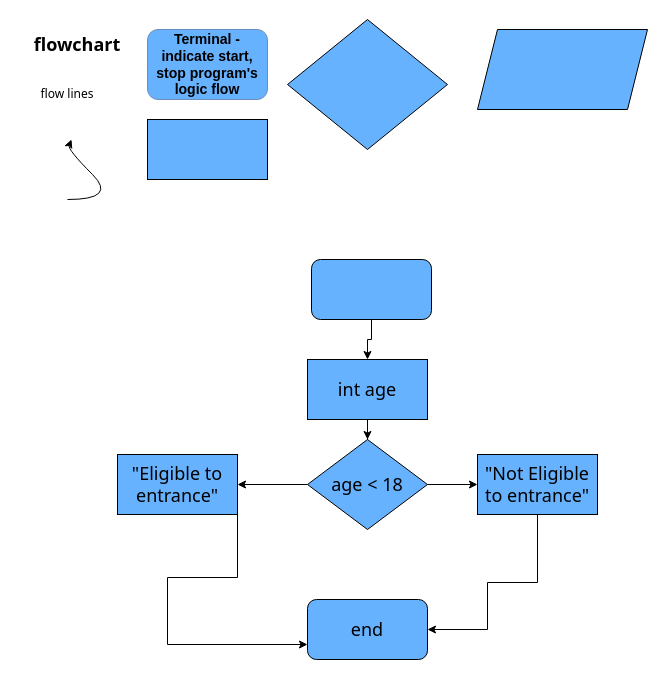
This 665x677 diagram has some shape labels left out. The shapes that lost their labels are listed below. From the top down, each one's box as (x1, y1, x2, y2) in pixels, then its label:
(286, 18, 448, 150): Decision - condition and decision
(476, 28, 648, 110): input/output
(146, 118, 268, 180): Processing: arithmetic instructions, variable declarations.
(310, 258, 432, 320): start
